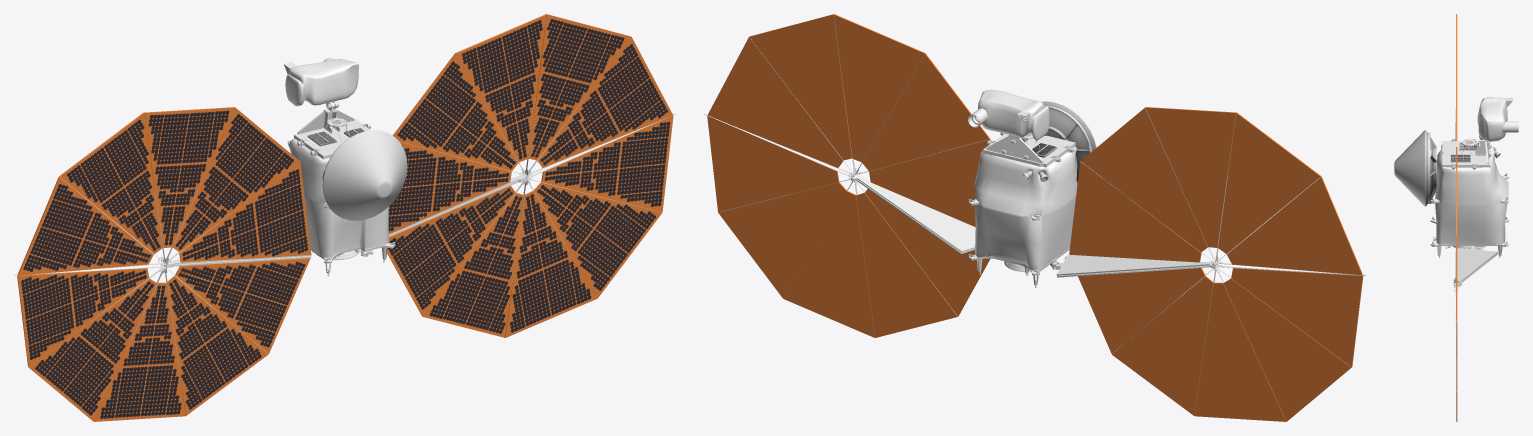
File: lucy.glb
3 views of the same model, side by side, from view 1: azimuth 30°, elevation 25°; view 2: azimuth 150°, elevation 25°; view 3: azimuth 270°, elevation 25° (orthographic). The views are drawn at different scales.
Visible parts, largest first — view 1: array_left.001, array_left, HGA, BUS, Lucy_Model:pCube20.001, array_left_gears, array_left_gears.001, top_platform; view 2: array_left.001, array_left, BUS, array_left_gears, array_left_gears.001, Lucy_Model:pCube20.001, HGS_base, top_platform; view 3: BUS, HGA, Lucy_Model:pCube20.001, array_left_gears, top_platform, HGS_base, array_left, luvers, array_left.001, platform_bottom, top_instruments, round_plate.
Part boxes in pixels (bbox=[...]): array_left.001: bbox=[17, 107, 311, 421]; array_left: bbox=[387, 14, 673, 337]; HGA: bbox=[323, 130, 407, 220]; BUS: bbox=[288, 138, 388, 257]; Lucy_Model:pCube20.001: bbox=[285, 59, 358, 106]; array_left_gears: bbox=[388, 95, 675, 286]; array_left_gears.001: bbox=[14, 174, 311, 380]; top_platform: bbox=[294, 108, 370, 159]; array_left.001: bbox=[1069, 107, 1363, 421]; array_left: bbox=[707, 14, 990, 337]; BUS: bbox=[974, 146, 1077, 270]; array_left_gears: bbox=[704, 16, 989, 314]; array_left_gears.001: bbox=[1054, 108, 1365, 409]; Lucy_Model:pCube20.001: bbox=[978, 89, 1049, 140]; HGS_base: bbox=[1041, 101, 1096, 182]; top_platform: bbox=[983, 134, 1075, 167]; BUS: bbox=[1435, 144, 1508, 244]; HGA: bbox=[1394, 130, 1425, 206]; Lucy_Model:pCube20.001: bbox=[1477, 97, 1507, 141]; array_left_gears: bbox=[1453, 246, 1497, 355]; top_platform: bbox=[1442, 139, 1490, 167]; HGS_base: bbox=[1425, 130, 1436, 206]; array_left: bbox=[1456, 147, 1457, 421]; luvers: bbox=[1450, 142, 1479, 162]; array_left.001: bbox=[1456, 14, 1457, 140]; platform_bottom: bbox=[1430, 218, 1508, 248]; top_instruments: bbox=[1502, 97, 1518, 132]; round_plate: bbox=[1459, 139, 1478, 157].
Bounding box in the file's own units: 15.6 × 7.07 × 3.21.
11 materials, 3 textured.
